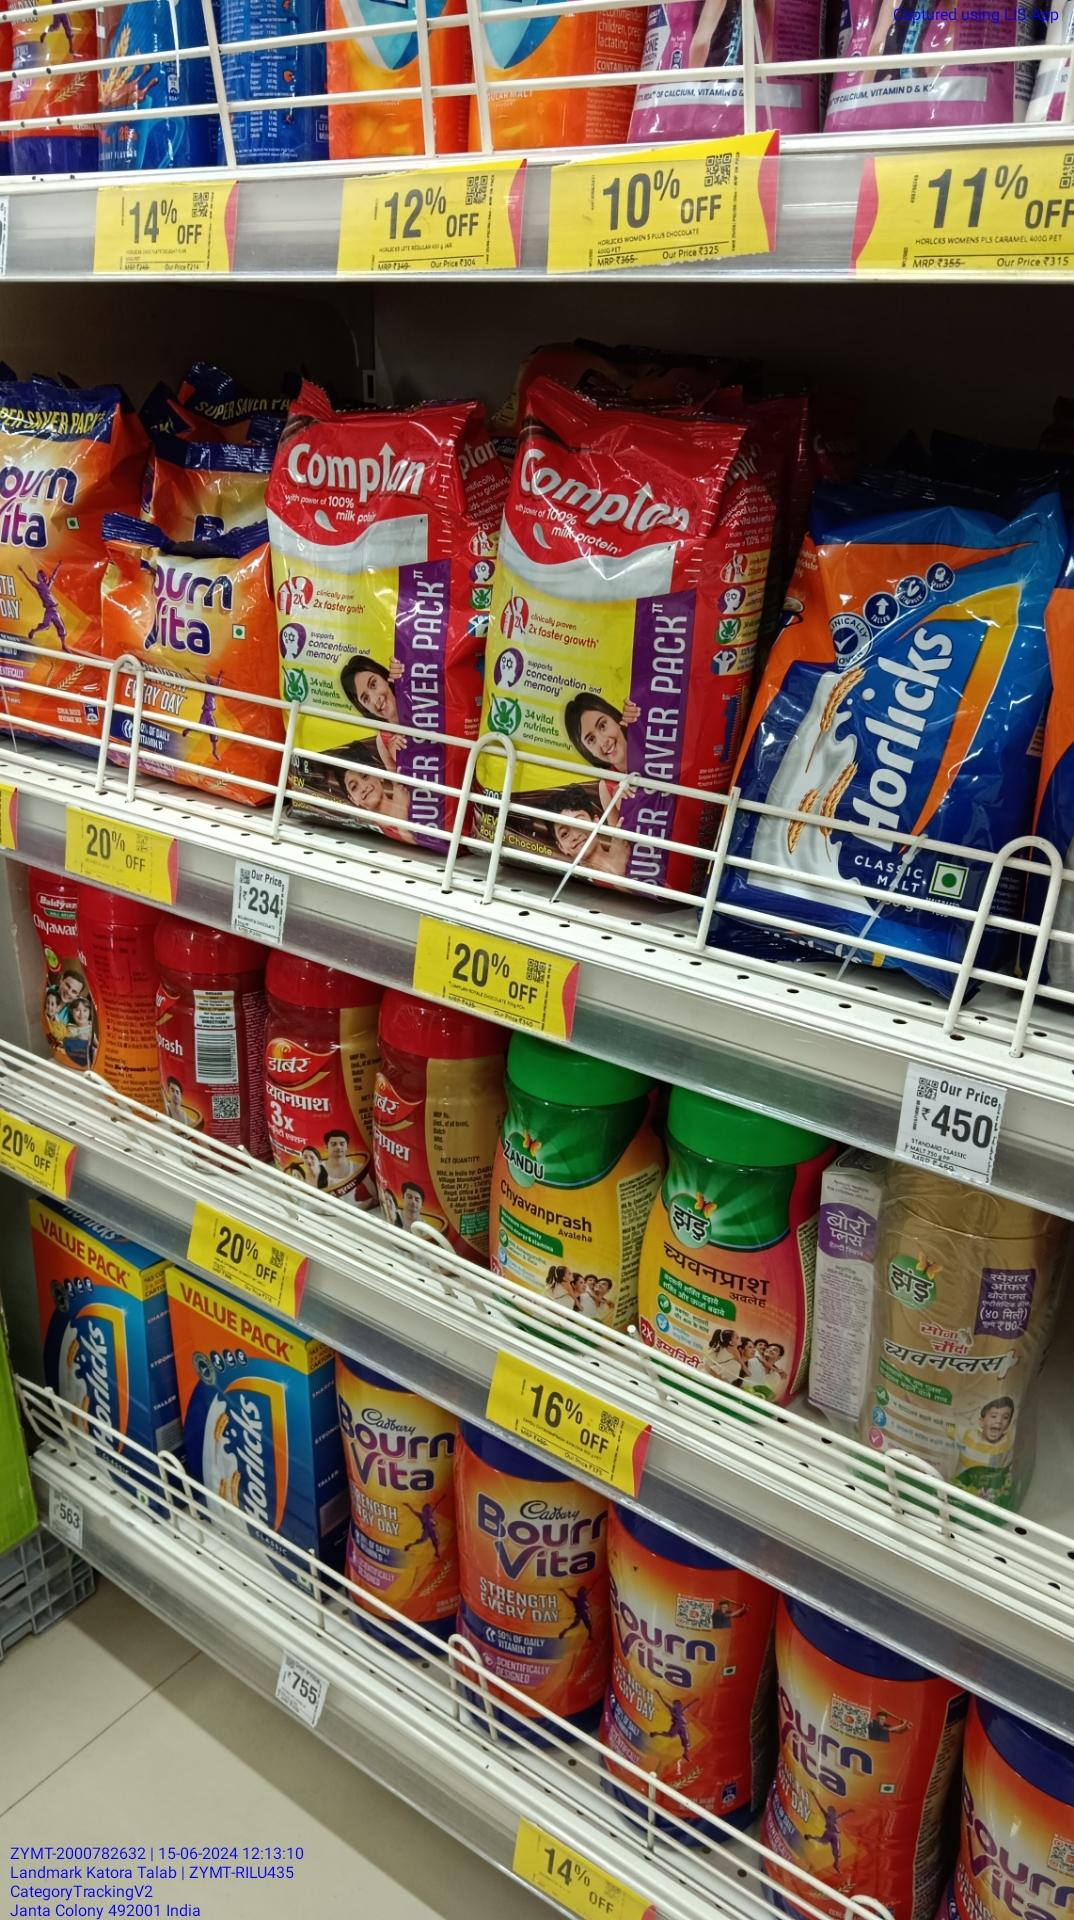BOURN_VITA_1_KG_JAR: (757, 1580, 935, 1916), (610, 1501, 748, 1858), (455, 1431, 595, 1756), (334, 1361, 447, 1662)
BOURN_VITA_500_G_POUCH: (108, 522, 259, 799)
COMPLAN_RC_POUCH_700_GMS_12: (487, 375, 685, 885), (276, 401, 466, 856)
